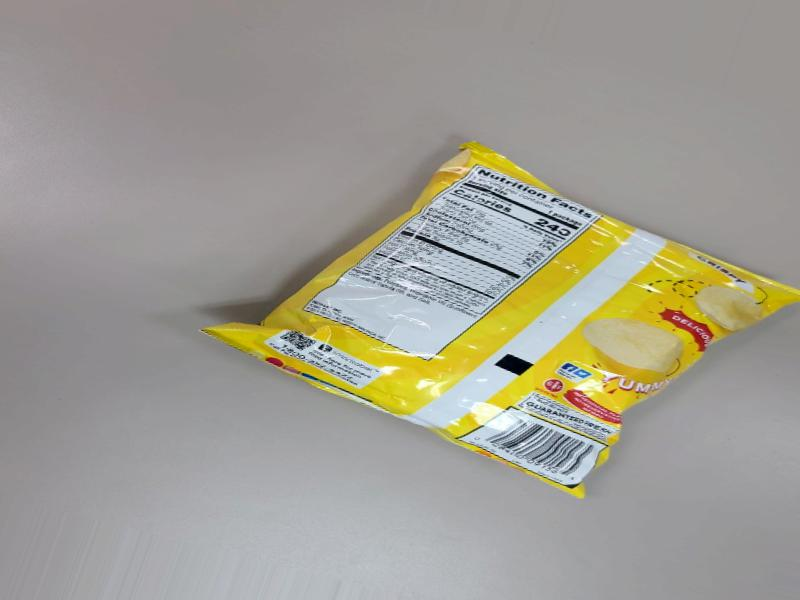lays: (178, 186, 759, 536)
